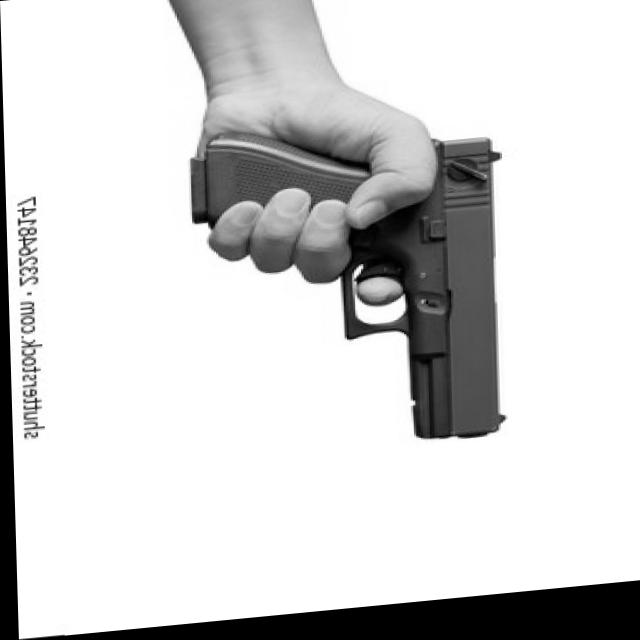handgun: (189, 120, 504, 466)
